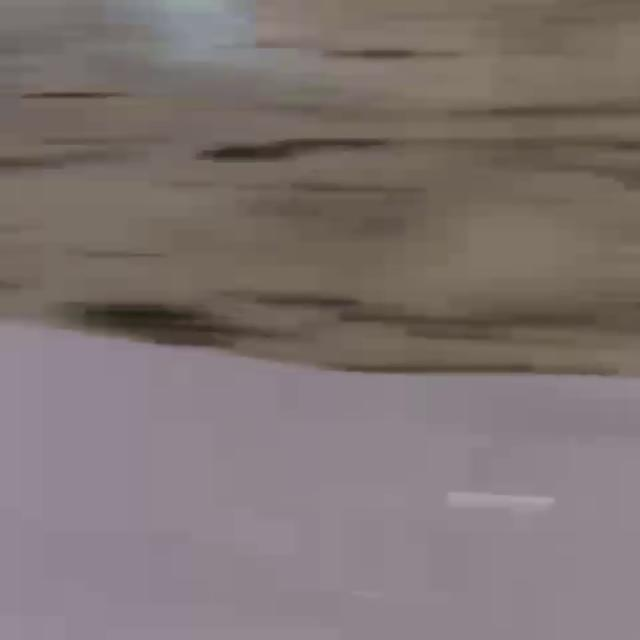road: (1, 325, 637, 640)
